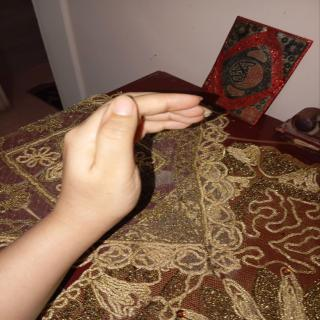HAA: (46, 85, 218, 235)
